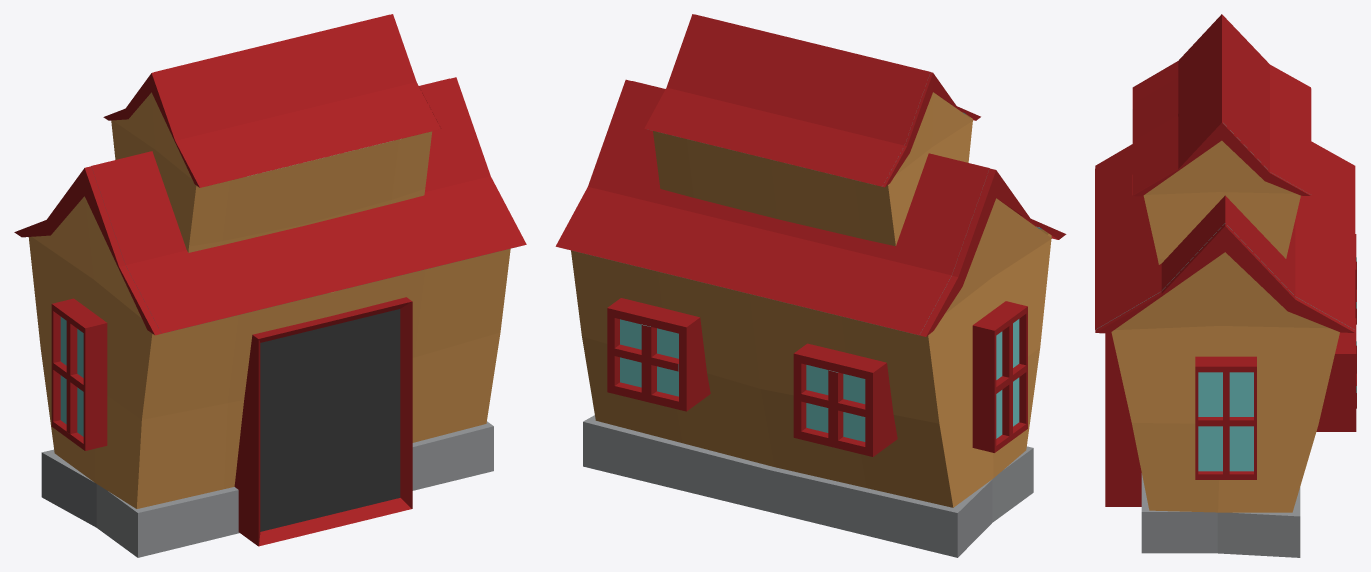
The model's file is LowPolyHouse.fbx.
3 views of the same model, side by side, from view 1: azimuth 30°, elevation 25°; view 2: azimuth 150°, elevation 25°; view 3: azimuth 270°, elevation 25° (orthographic). The views are drawn at different scales.
Visible parts, largest first — view 1: Cube; view 2: Cube; view 3: Cube.
Boxes of the visible parts, x1,y1,x2,y2 form: Cube: [14, 14, 526, 557]; Cube: [555, 14, 1066, 557]; Cube: [1095, 14, 1356, 557].
Size of the model in its own units: 371 by 386 by 226.
